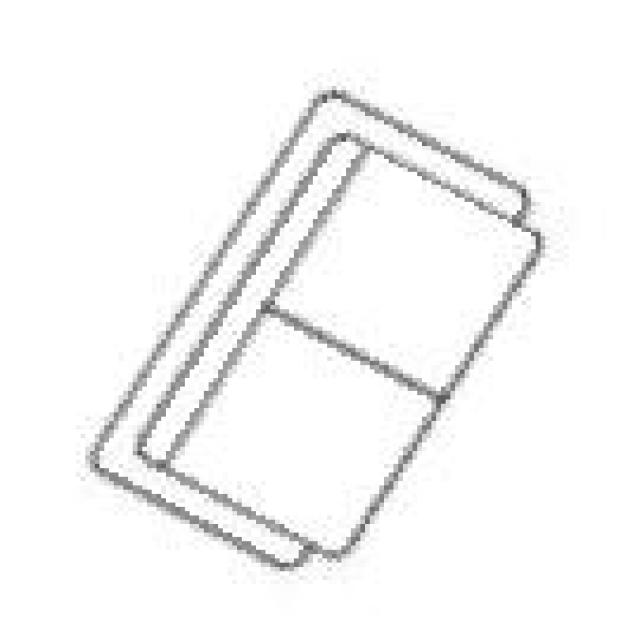sofa: (86, 86, 540, 571)
